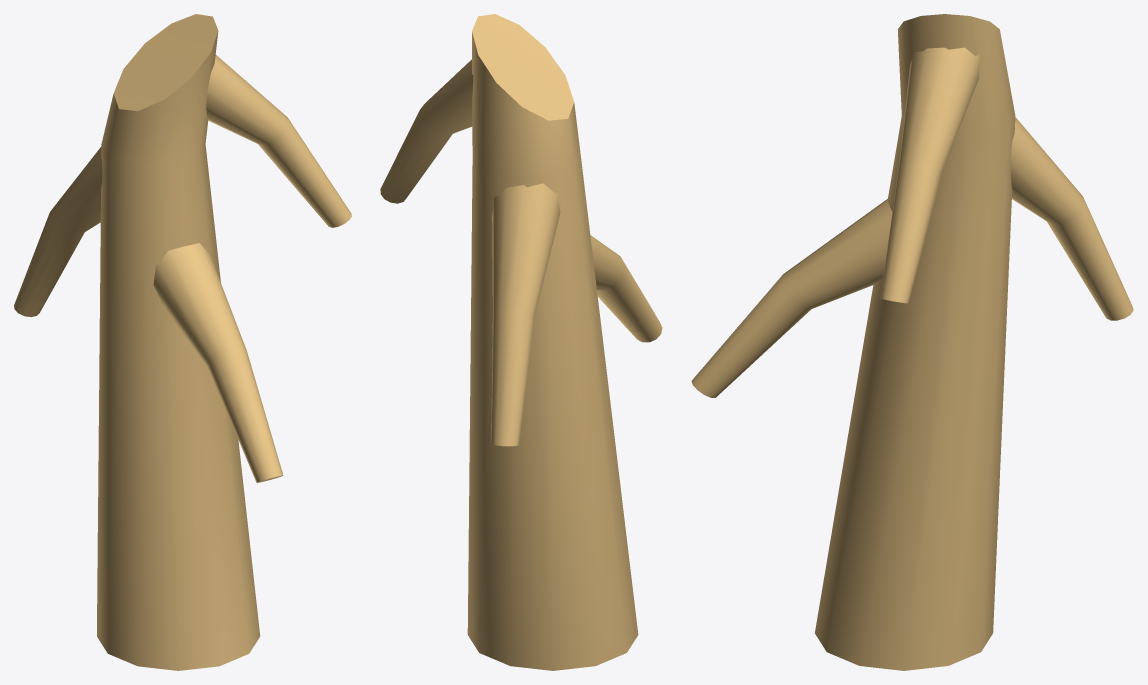
The model's file is DryTree_lvl_3.fbx.
The picture shows the model from 3 angles, left to right: view 1: azimuth 30°, elevation 25°; view 2: azimuth 150°, elevation 25°; view 3: azimuth 270°, elevation 25°; orthographic projection. The views are drawn at different scales.
Parts seen in each view (by area): view 1: tree_4.013; view 2: tree_4.013; view 3: tree_4.013.
Part boxes in pixels (x1,y1,x2,y2): tree_4.013: (14,14,351,670); tree_4.013: (380,14,662,670); tree_4.013: (691,14,1133,670).
Bounding box in the file's own units: 51.54 × 123 × 75.89.
